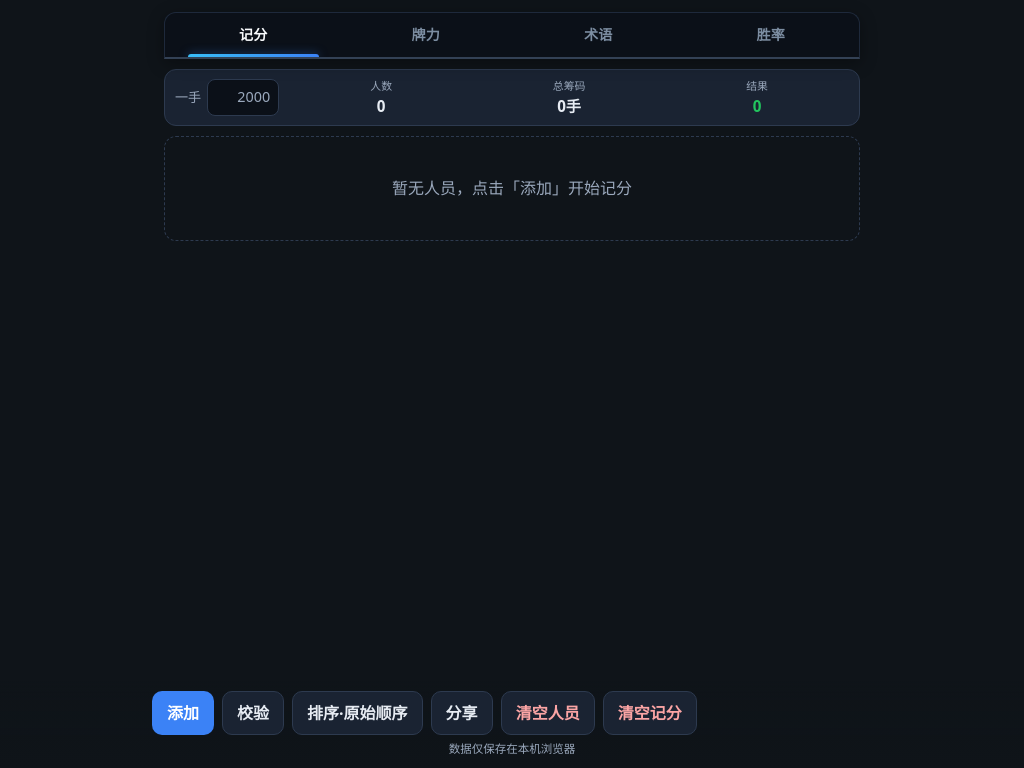
Test: App integration › requires confirm before delete
The image size is (1024, 768).
Click the button "添加" at (183, 713), box [152,691,214,735]
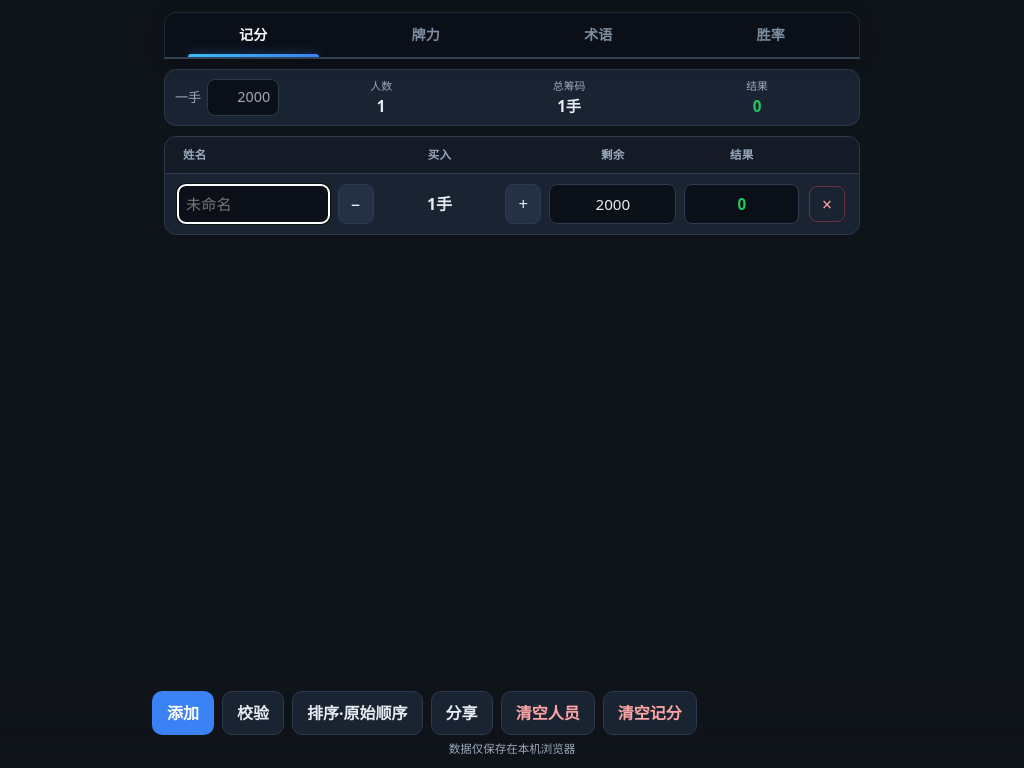
Click the button named "删除" at (827, 204), box [809,186,845,222]
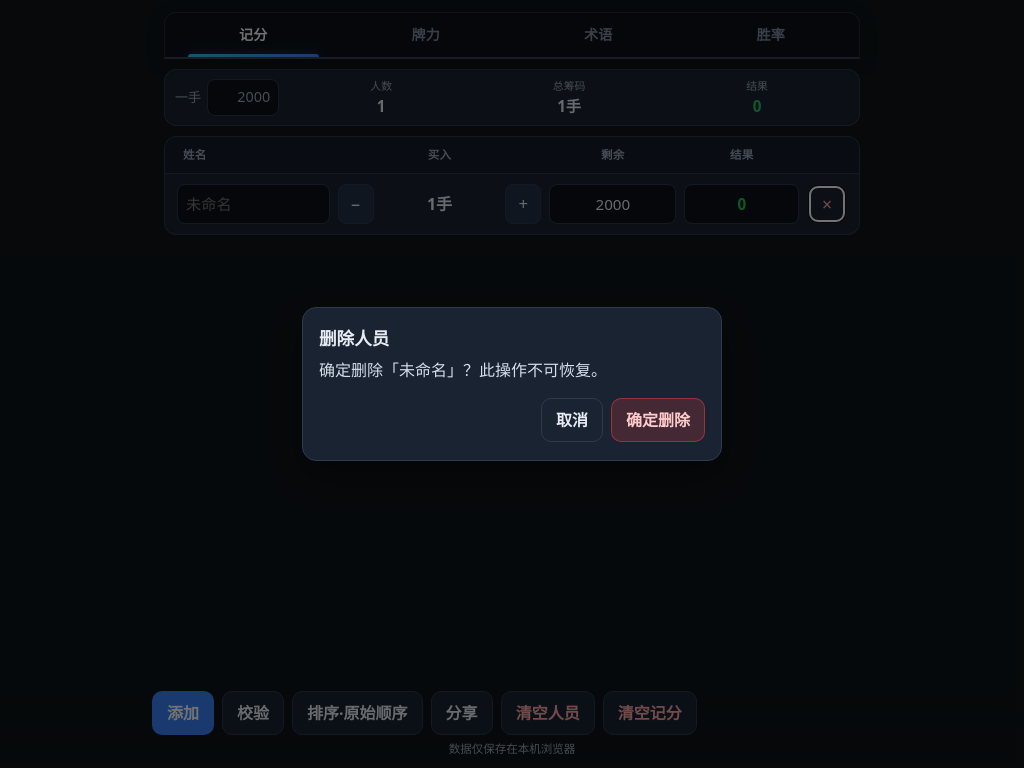
Expected: the dialog "删除人员 确定删除「未命名」？此操作不可恢复。 取消 确定删除" is shown, [302,307,722,461]
Click the button "取消" at (572, 420), box [541,398,603,442]
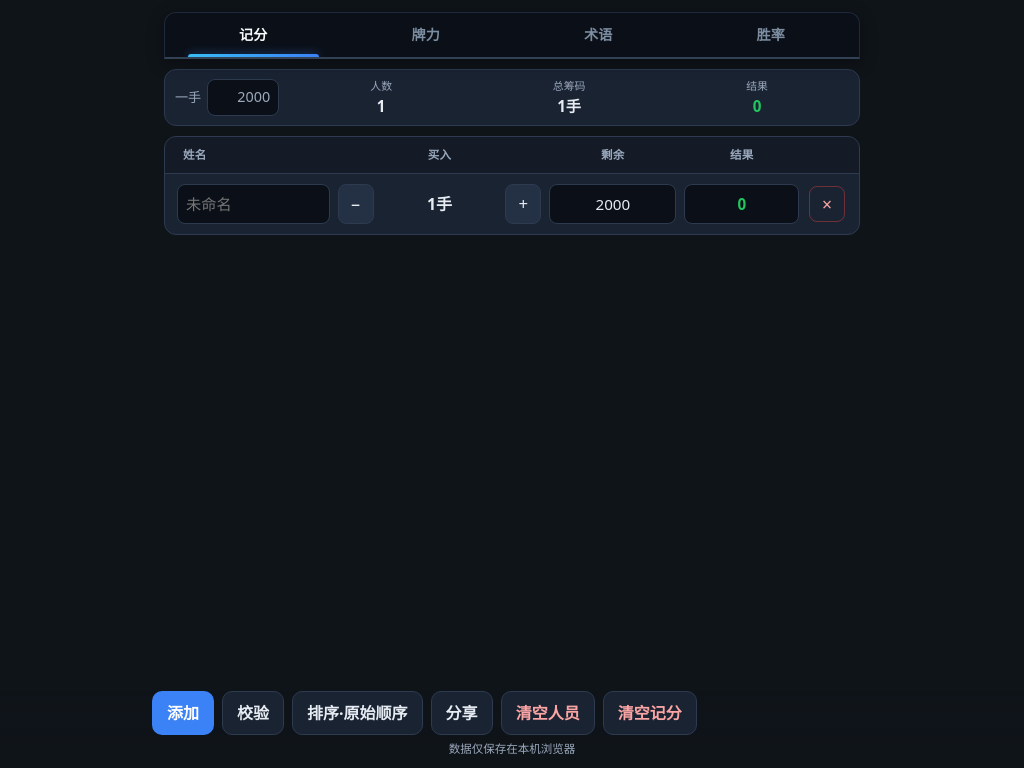
Expected: the text named "买入" is shown, [427,193,452,215]
Click the button named "删除" at (827, 204), box [809,186,845,222]
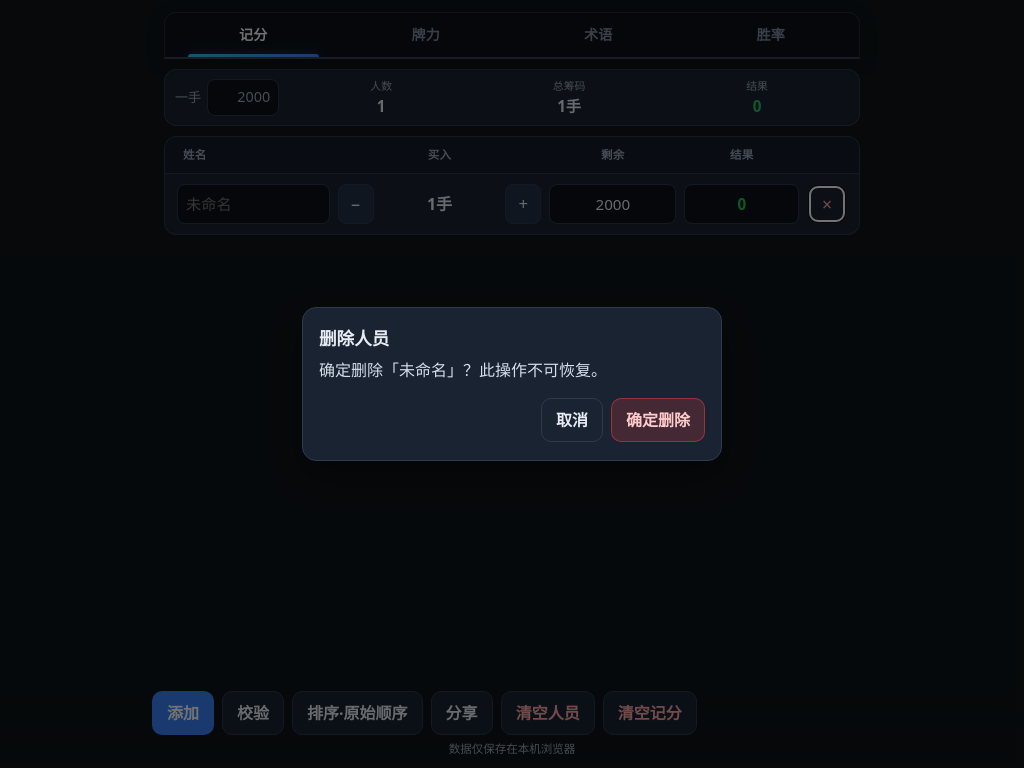
Click the button "确定删除" at (658, 420), box [611,398,705,442]
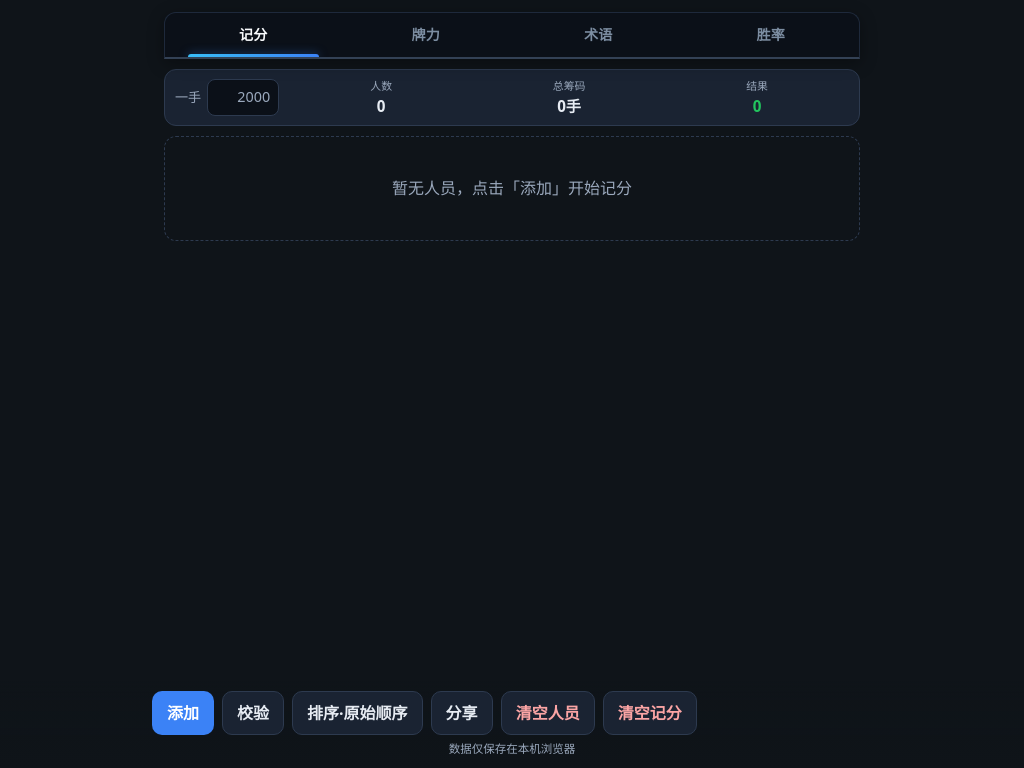
Expected: the text "暂无人员，点击「添加」开始记分" is shown, [164,136,860,241]
